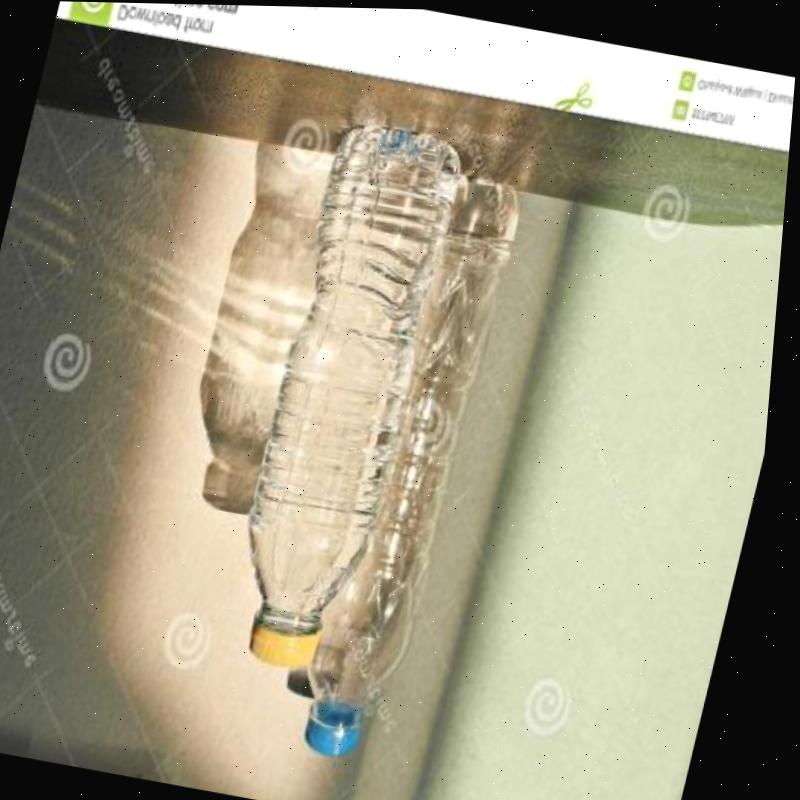botella: (298, 162, 532, 765), (228, 112, 472, 675)
